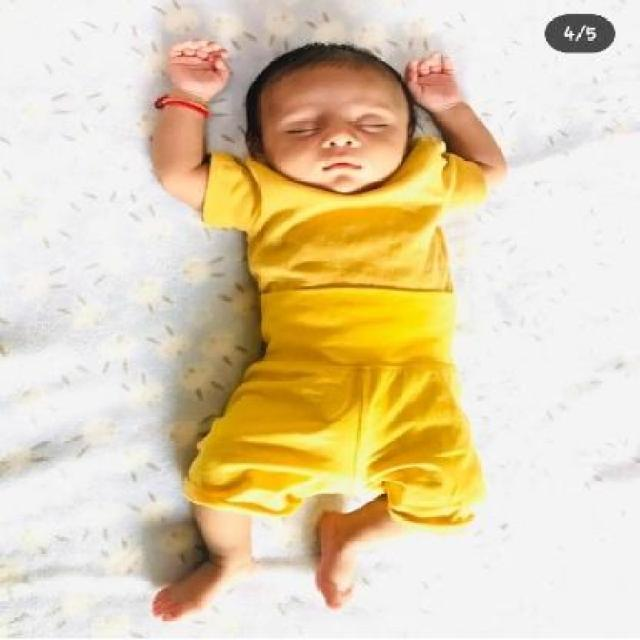baby: (145, 34, 510, 618)
